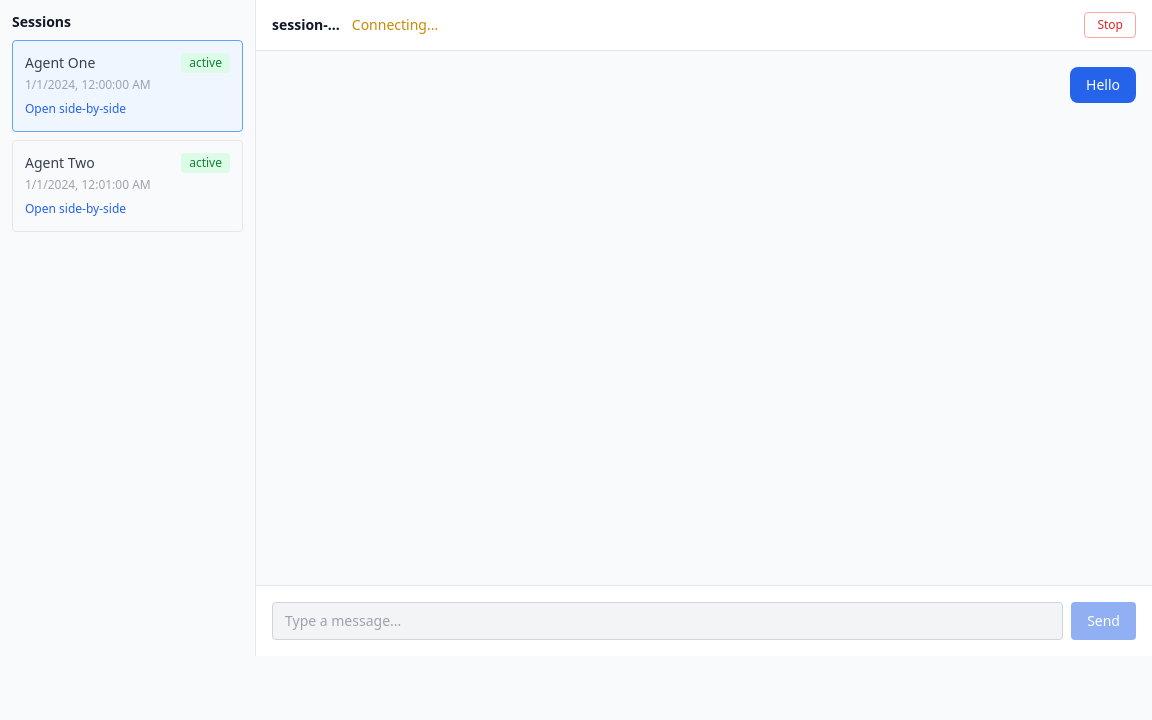
it: ChatPage › opens side panel on 'Open side-by-side' click
Click the 2nd button "Open side-by-side" at (76, 209), box [25,201,126,217]
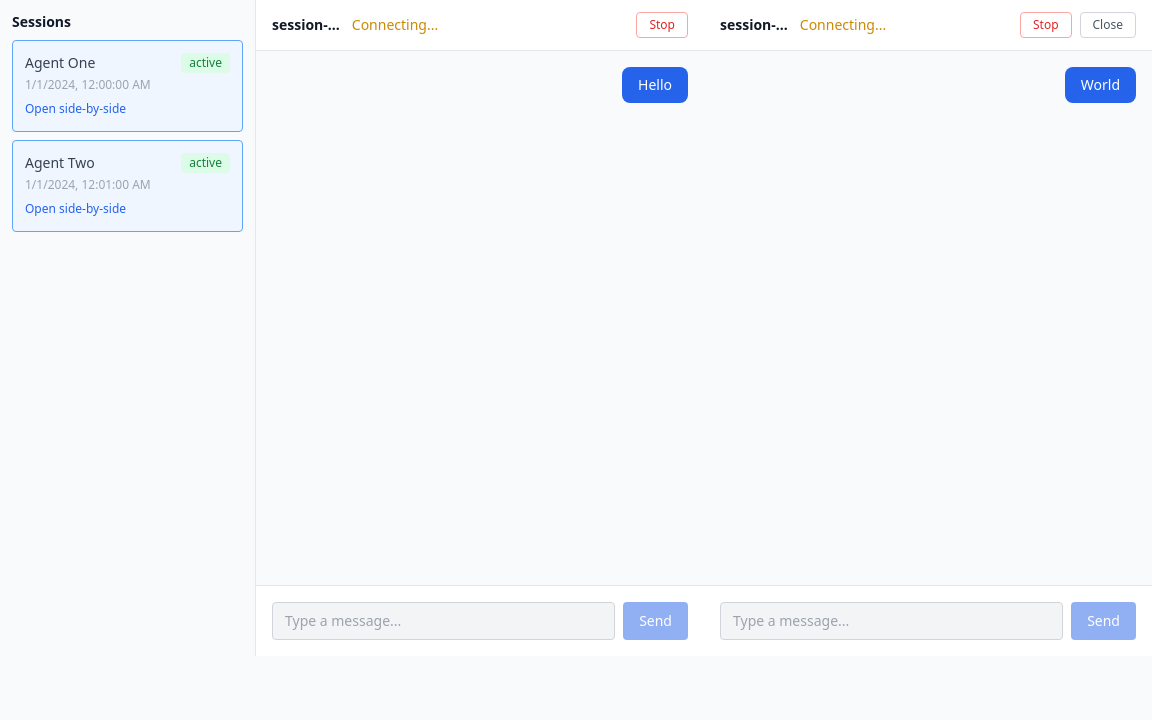
Expected: the text "Hello" is shown, [638,75,672,95]
Expected: the text "World" is shown, [1081,75,1120,95]
